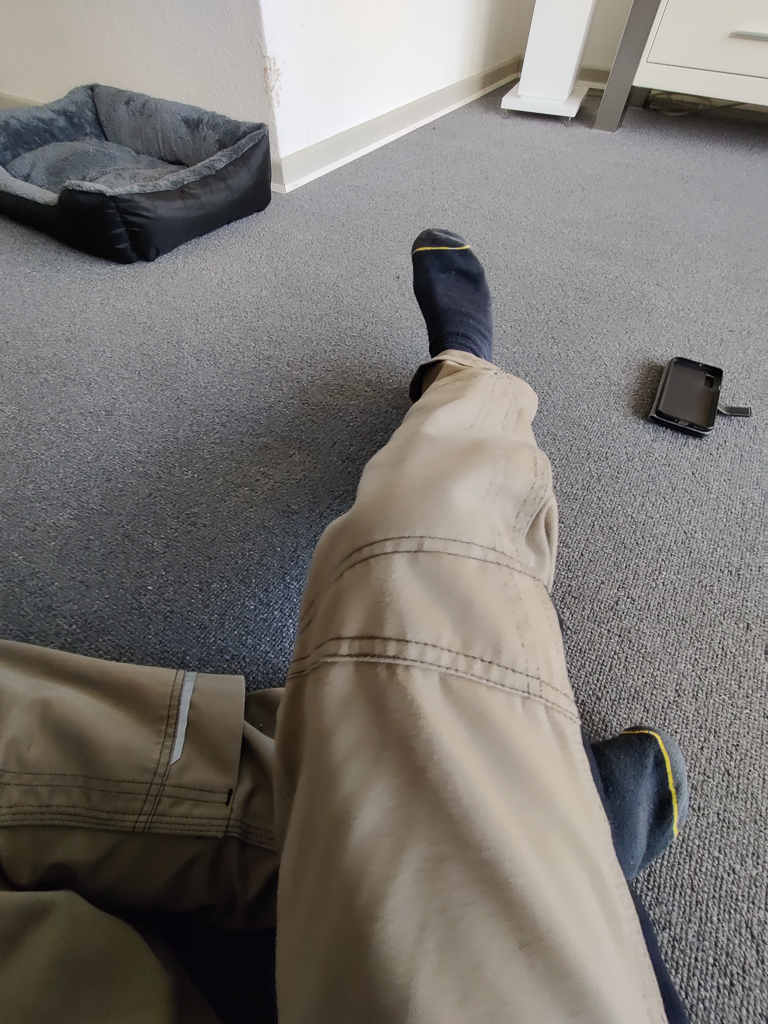Humanoid: (0, 214, 714, 1024)
